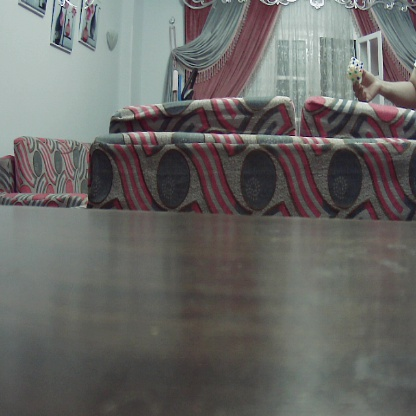Rubix Cube: (347, 57, 363, 83)
